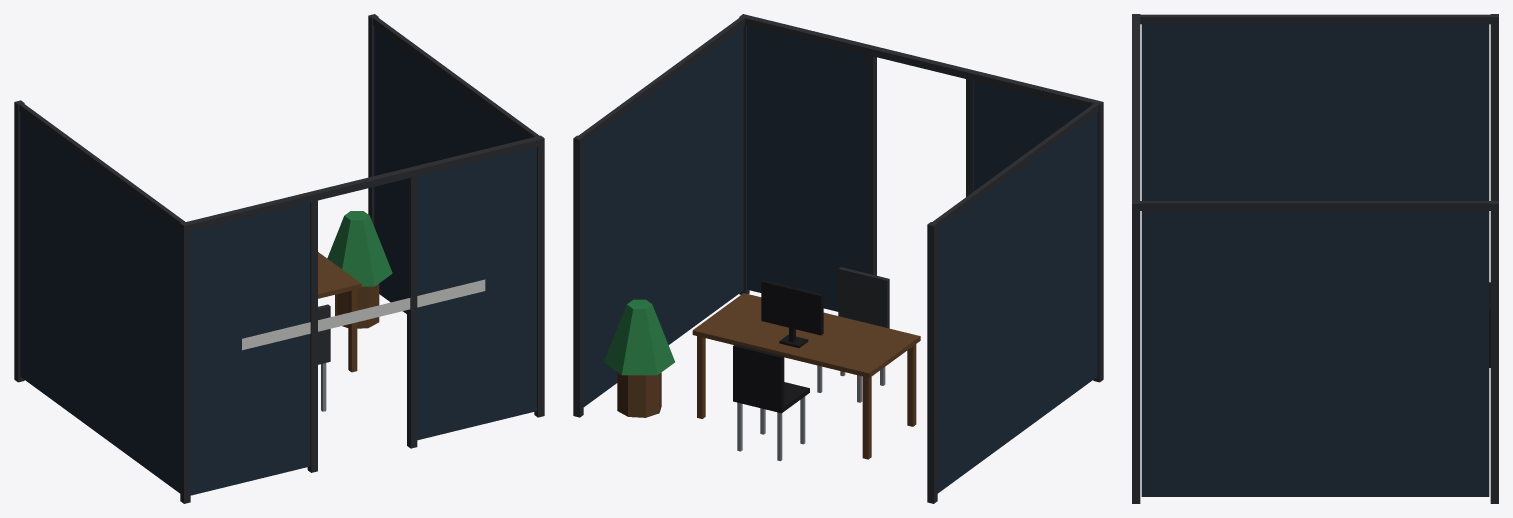
Rendered from prop_glass-office.8abf1e6bcc5a.glb.
3 views of the same model, side by side, from view 1: azimuth 30°, elevation 25°; view 2: azimuth 150°, elevation 25°; view 3: azimuth 270°, elevation 25° (orthographic). The views are drawn at different scales.
Visible parts, largest first — view 1: body; view 2: body; view 3: body.
Part boxes in pixels (<box>): body: <box>14,14,544,503</box>; body: <box>573,14,1103,503</box>; body: <box>1132,14,1498,503</box>.
Size of the model in its own units: 3.26 by 2.4 by 2.66.
